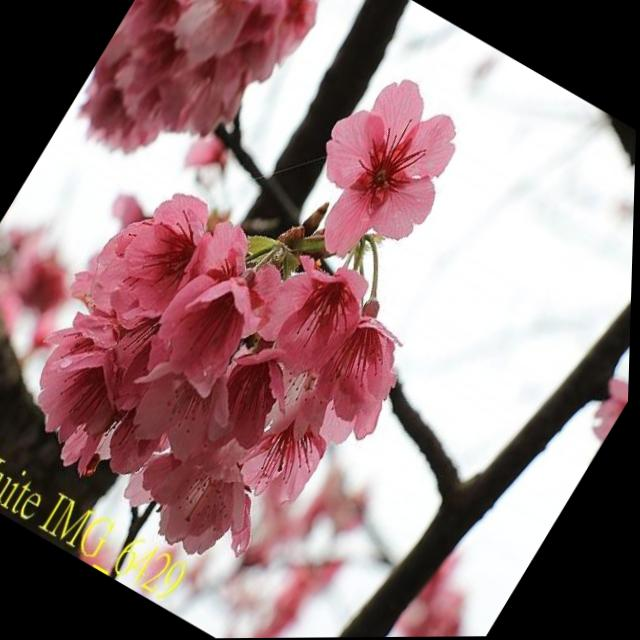Flower: (278, 55, 484, 276), (261, 234, 463, 457), (202, 317, 391, 530), (0, 268, 191, 464), (136, 234, 302, 417), (99, 312, 267, 490), (114, 436, 273, 579), (104, 176, 247, 333), (263, 239, 390, 386), (218, 228, 344, 362)
